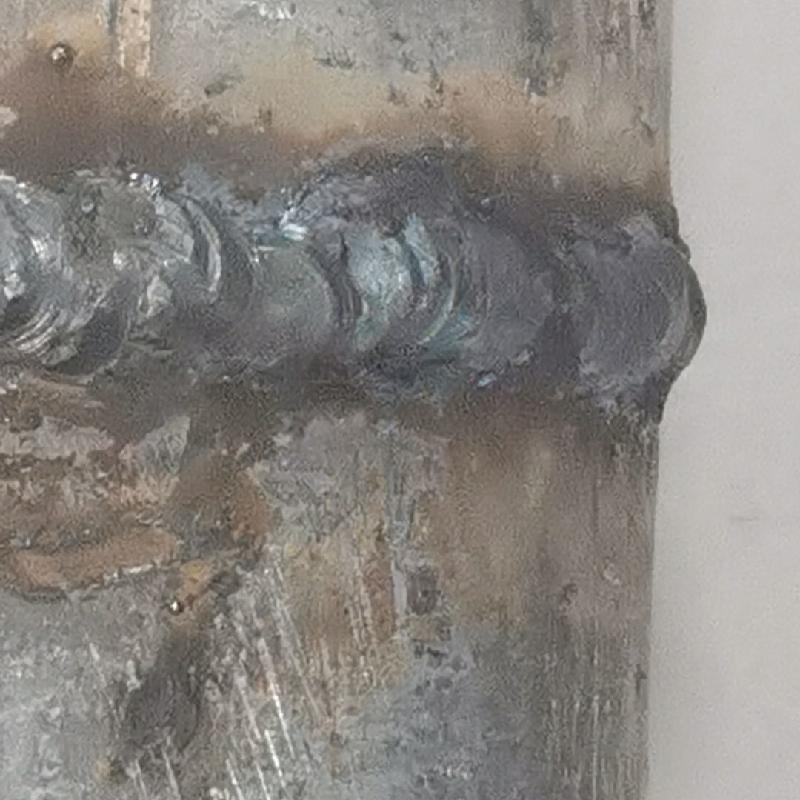good: (3, 162, 708, 417)
